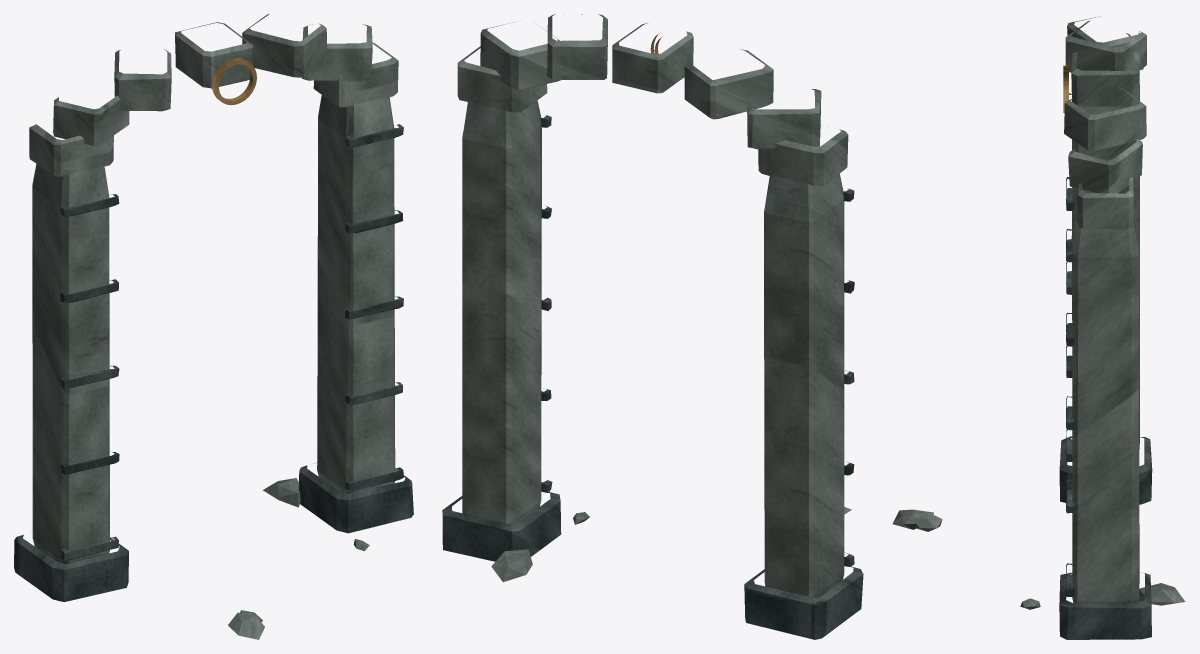
The model's file is 0314_archway_14.glb.
3 renders of one model, left to right at view 1: azimuth 30°, elevation 25°; view 2: azimuth 150°, elevation 25°; view 3: azimuth 270°, elevation 25°, orthographic. The views are drawn at different scales.
Parts seen in each view (by area): view 1: stone, stone_dark, brass; view 2: stone, stone_dark; view 3: stone, stone_dark.
Boxes of the visible parts, box(x1,y1,x2,y2) form: stone: box(29, 14, 398, 639); stone_dark: box(14, 124, 413, 601); brass: box(212, 58, 256, 105); stone: box(457, 14, 851, 597); stone_dark: box(442, 115, 863, 639); stone: box(892, 16, 1185, 609); stone_dark: box(1059, 93, 1152, 639).
Bounding box in the file's own units: 3.78 × 5.11 × 2.73.
3 materials, 3 textured.
